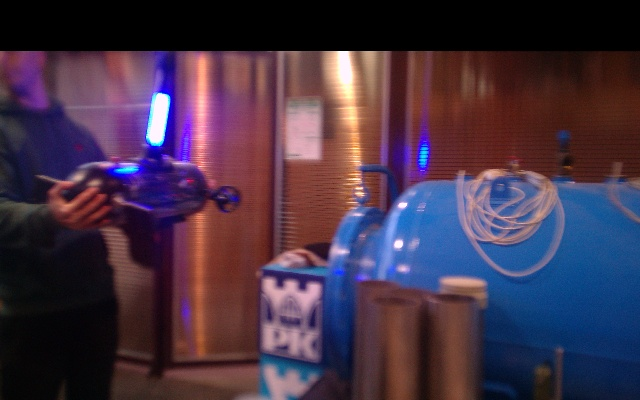blue: (145, 94, 172, 148)
